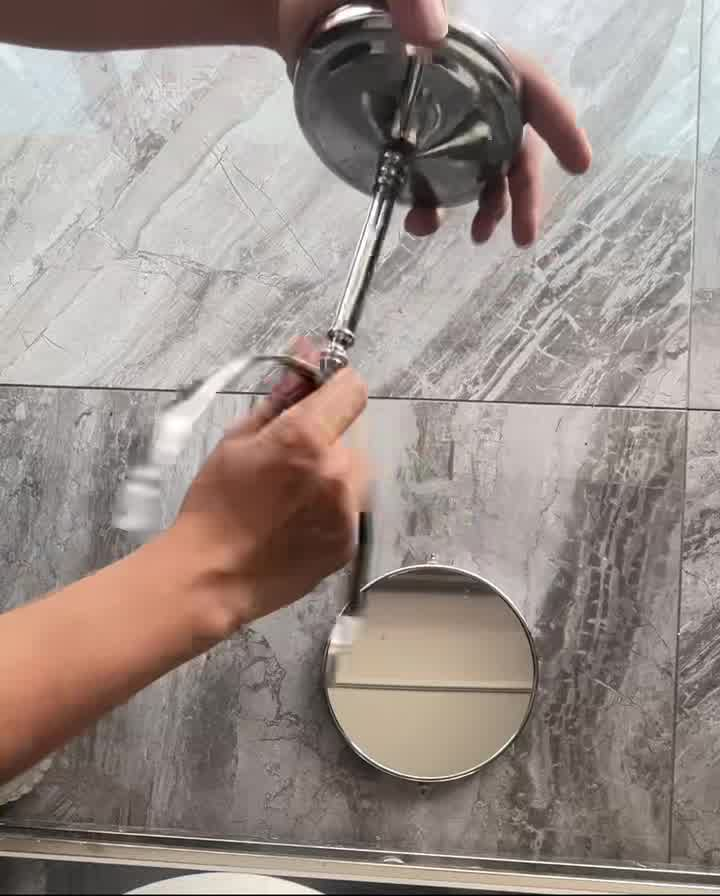base: (294, 4, 556, 194)
frame: (104, 158, 497, 548)
screw: (314, 561, 537, 790)
